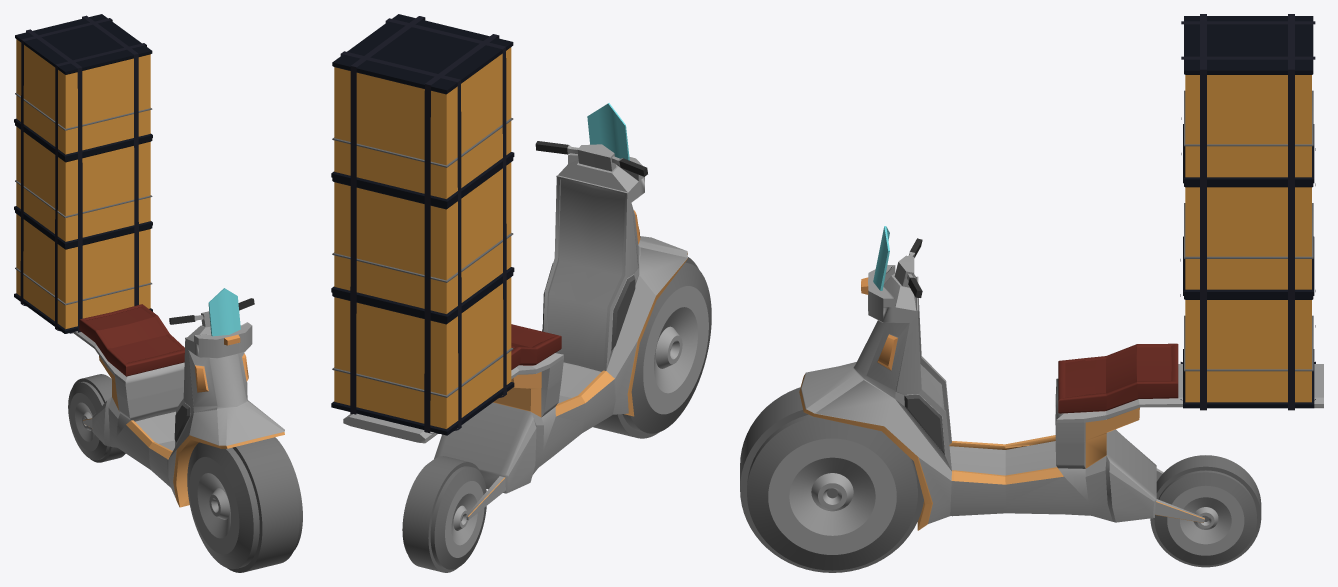
Rendered from bike_forward_old.fbx.
3 views of the same model, side by side, from view 1: azimuth 30°, elevation 25°; view 2: azimuth 150°, elevation 25°; view 3: azimuth 270°, elevation 25° (orthographic). The views are drawn at different scales.
Visible parts, largest first — view 1: Plane, Cylinder, Cylinder.003; view 2: Plane, Cylinder, Cylinder.003; view 3: Plane, Cylinder, Cylinder.003.
Boxes of the visible parts, x1,y1,x2,y2 form: Plane: (14,14,284,507); Cylinder: (187,437,302,572); Cylinder.003: (68,374,125,462); Plane: (331,14,687,520); Cylinder: (593,257,711,438); Cylinder.003: (402,456,486,572); Plane: (799,14,1323,530); Cylinder: (740,387,923,572); Cylinder.003: (1150,455,1261,567).
Size of the model in its own units: 5924 by 25459 by 25900.
